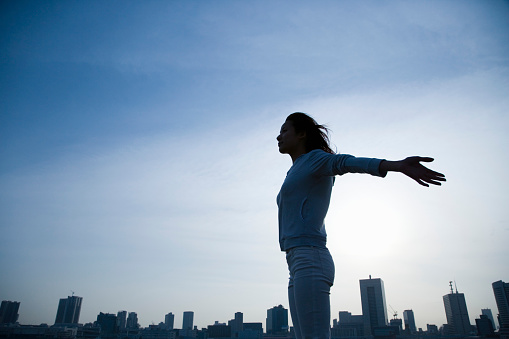em pe: (252, 110, 450, 322)
